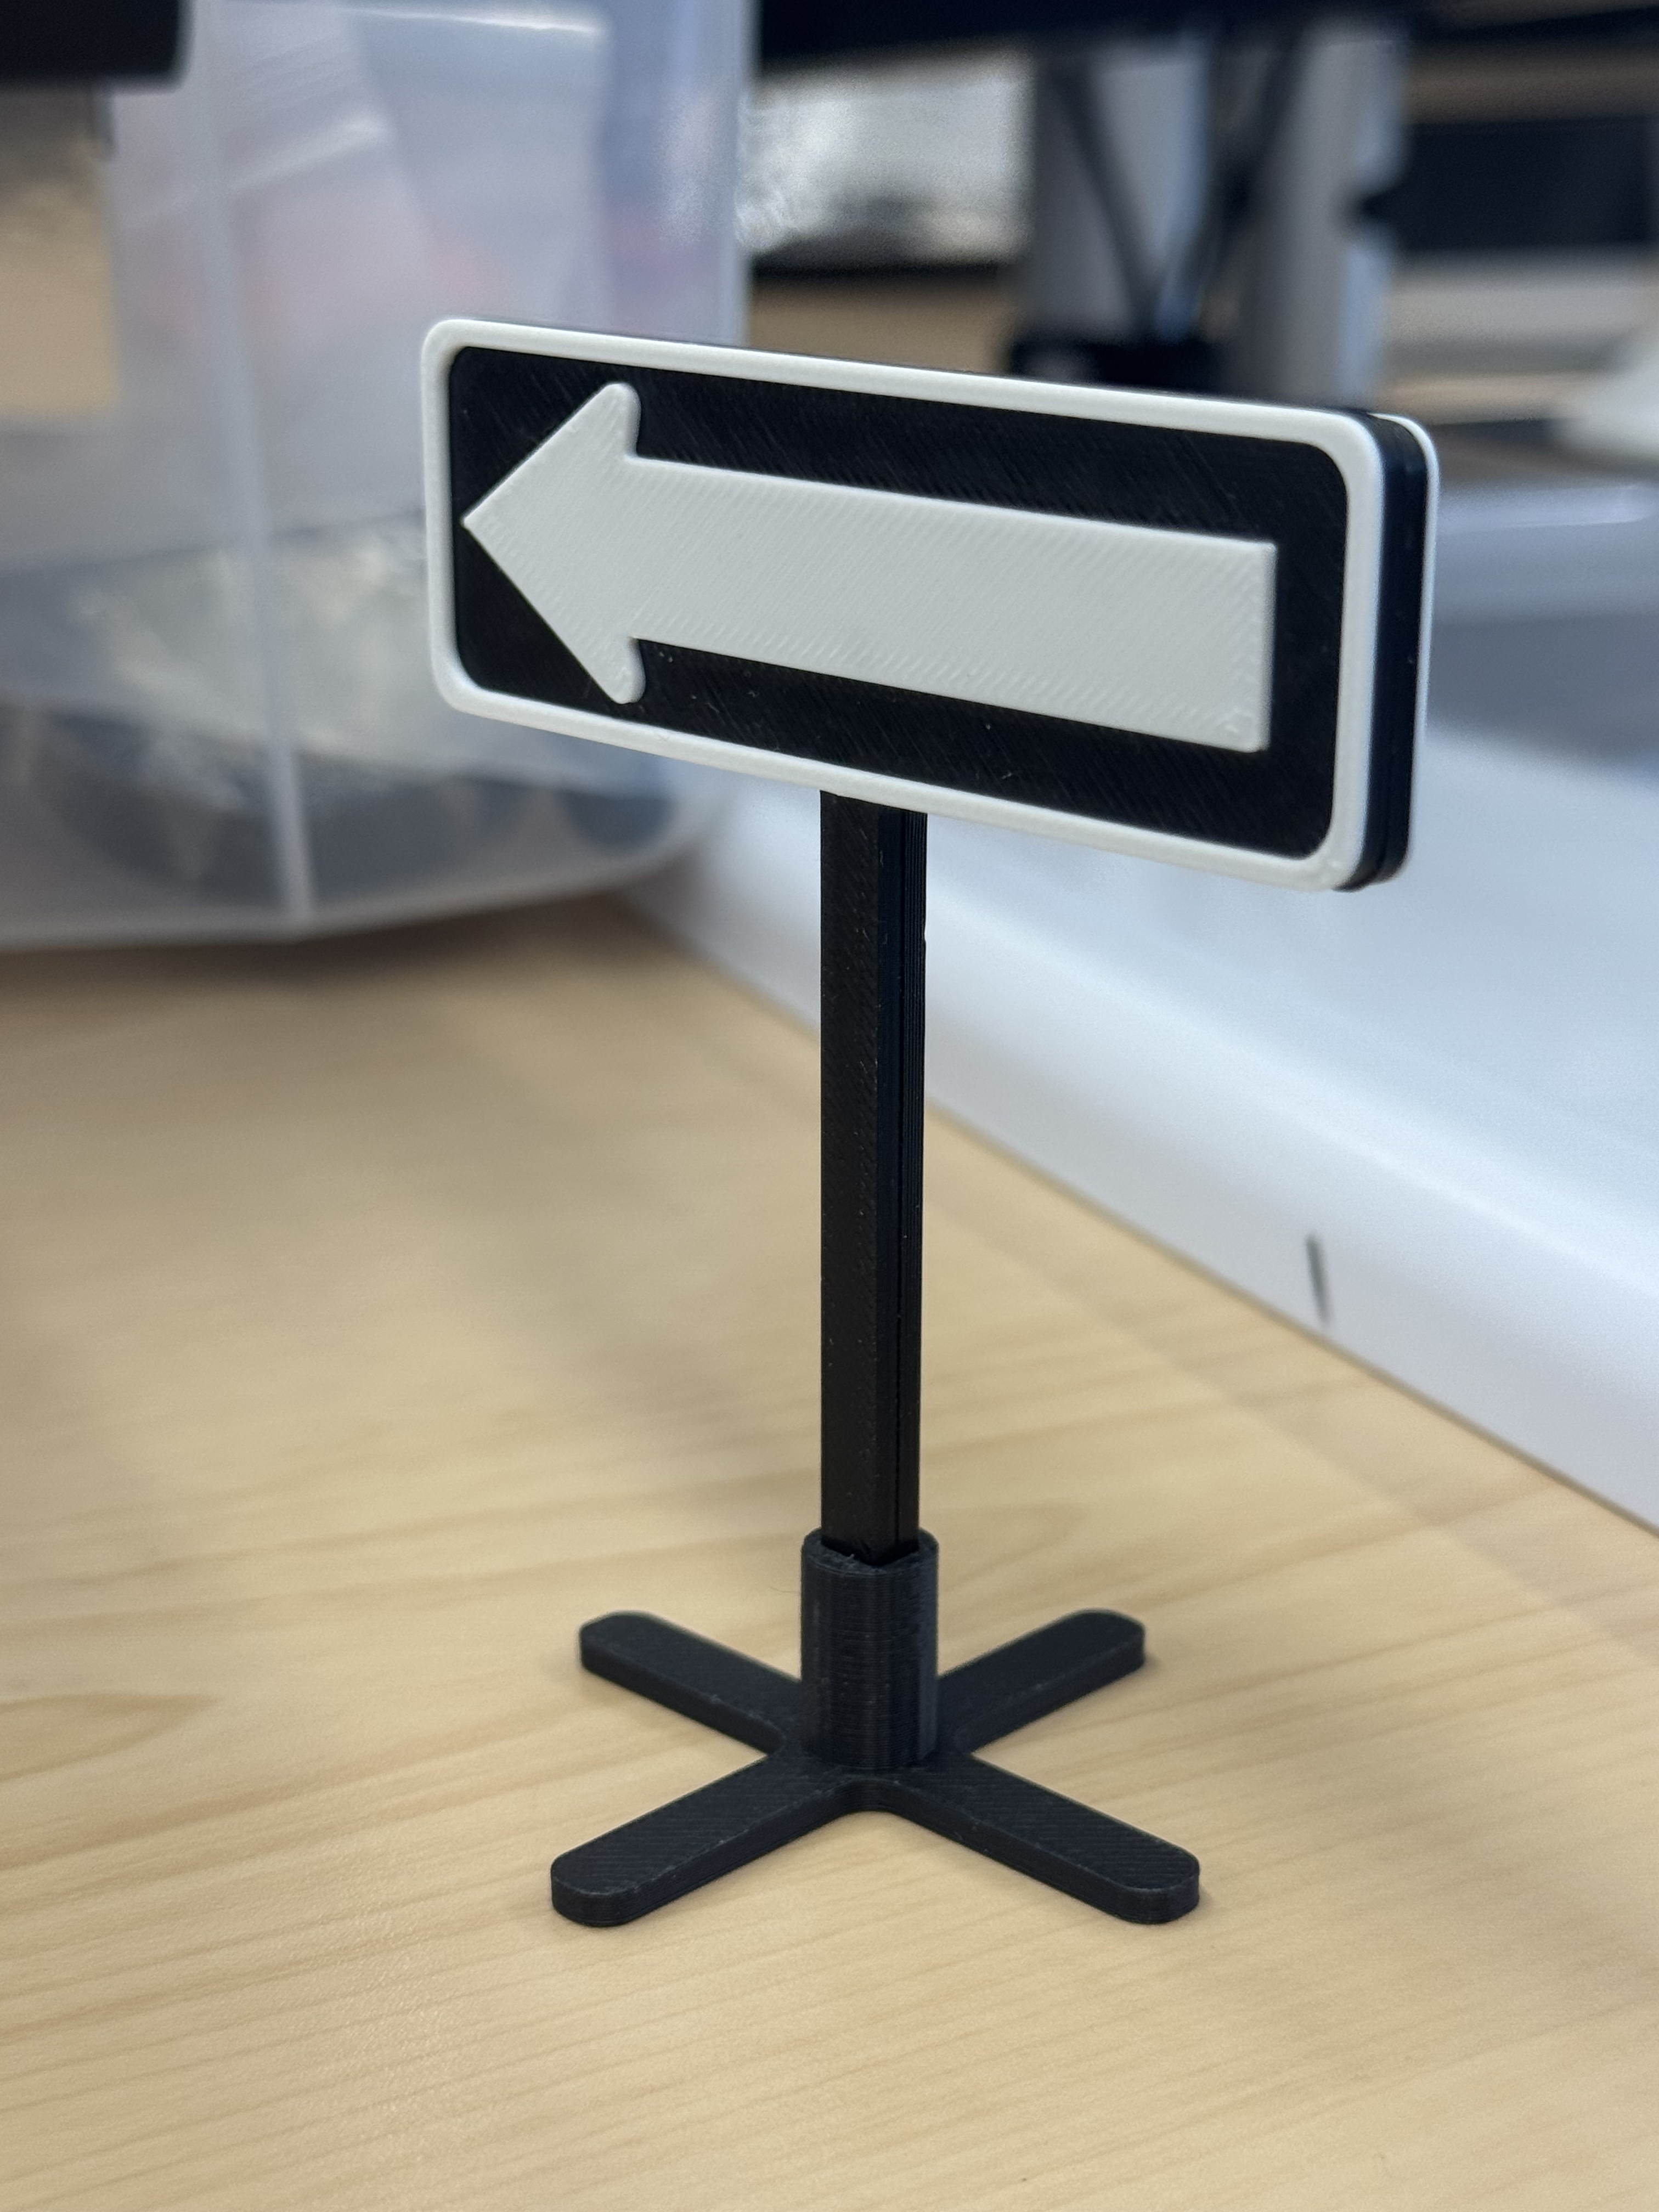sign_oneway_left: (422, 310, 1445, 1916)
